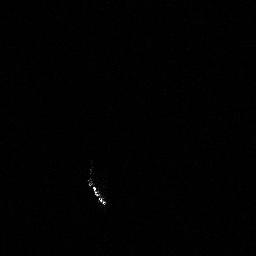ship: (88, 181, 106, 206)
